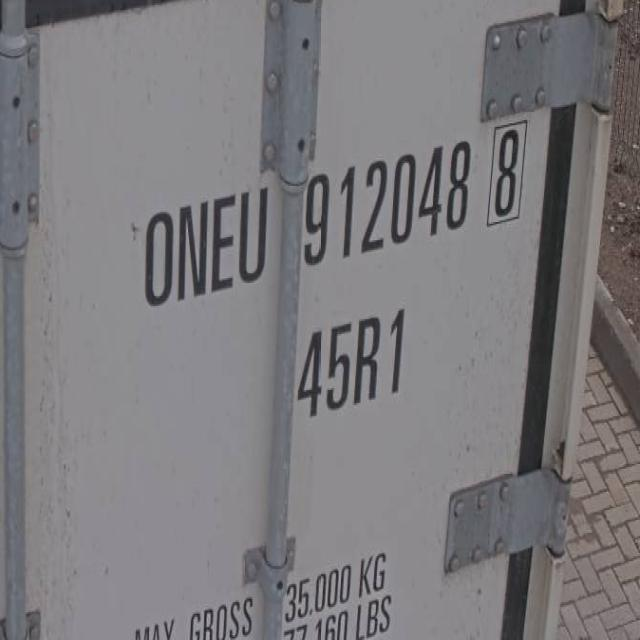dv: (480, 114, 530, 234)
owner: (135, 172, 270, 313)
serial: (302, 136, 472, 270)
size: (298, 302, 412, 422)
